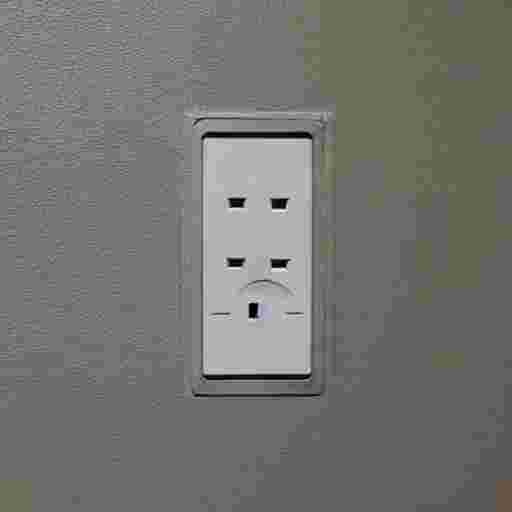power outlet: (183, 106, 333, 396)
